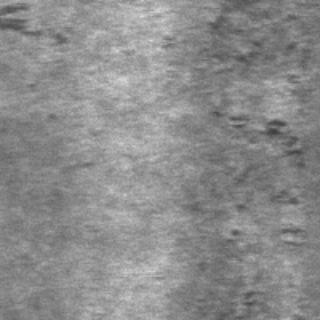rolled pit: (199, 5, 317, 185), (181, 189, 251, 317), (155, 2, 267, 80), (0, 1, 70, 44)
